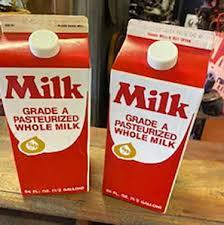cardboard: (103, 19, 213, 211), (0, 13, 89, 194)
